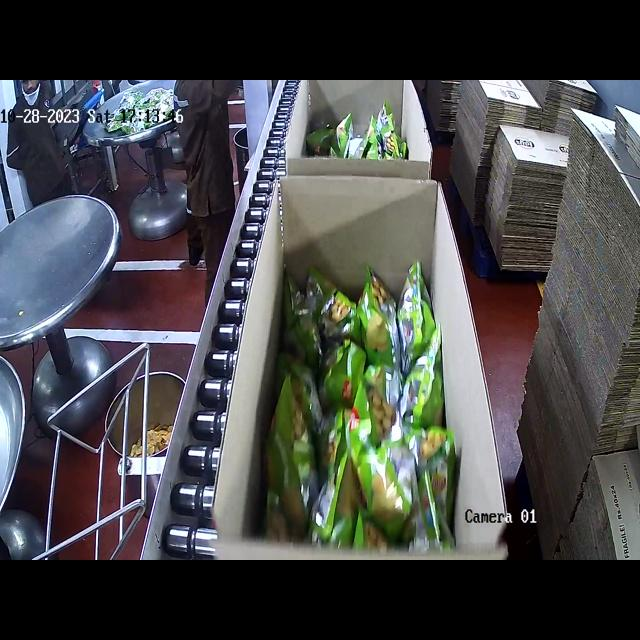yogurt: (263, 259, 458, 553), (305, 105, 410, 165)
